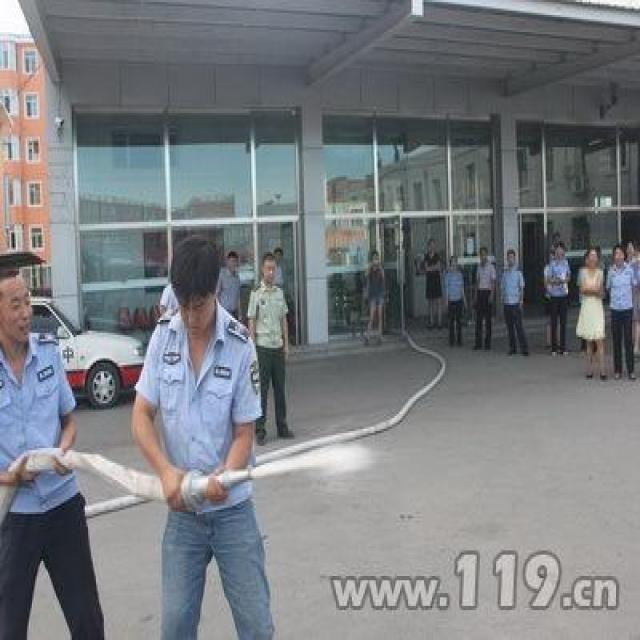non-fight: (126, 232, 292, 638), (0, 256, 120, 638), (600, 243, 638, 380)
